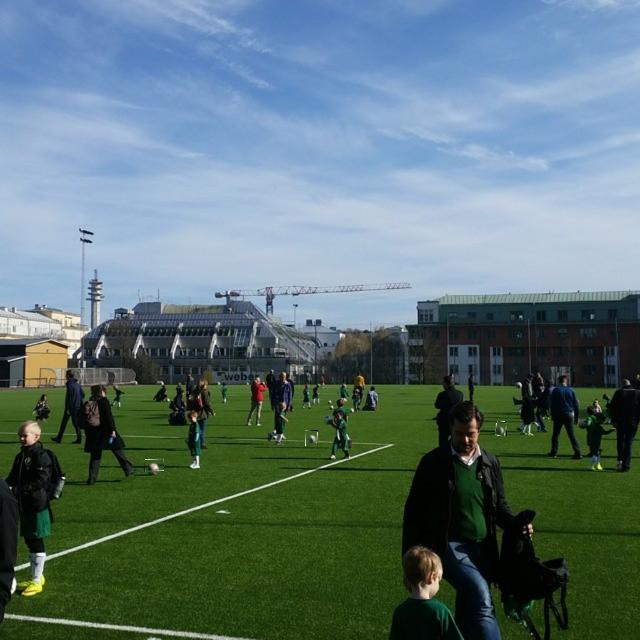Football: (144, 460, 164, 472), (306, 430, 318, 446), (495, 422, 507, 436)
